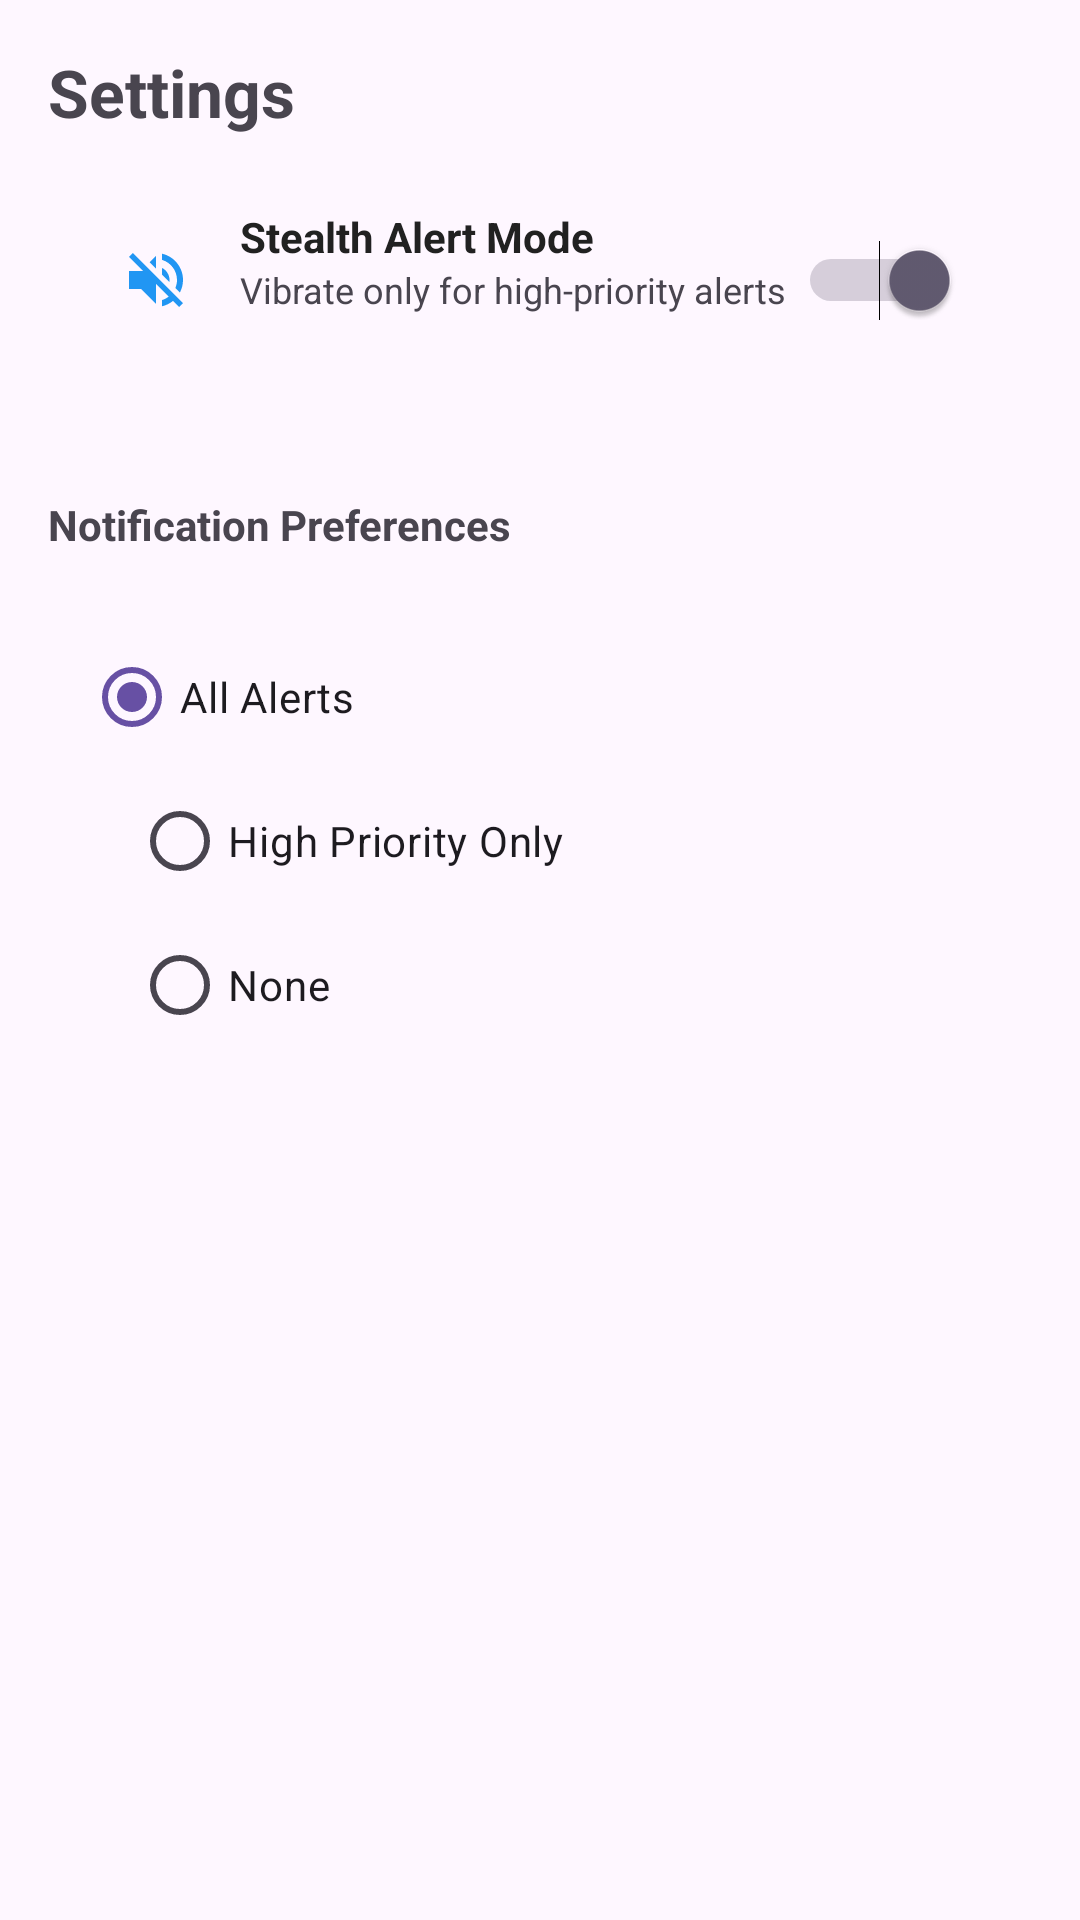

Where icons sit on this 1080*1920 app screen, as [x1, y1, x2, y2]:
Silent mode indicator: [129, 253, 183, 307]
